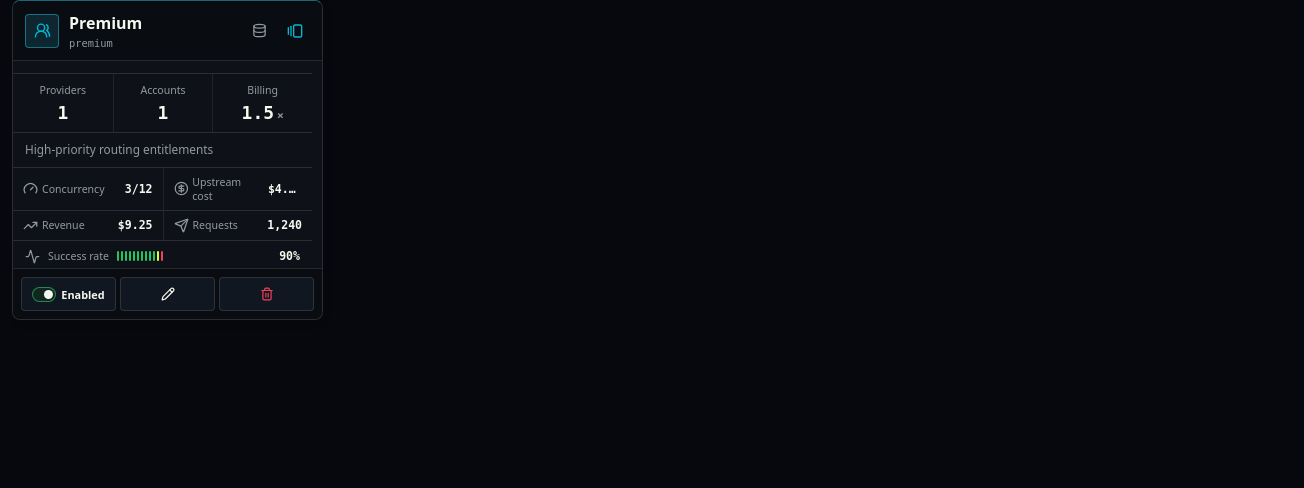
Test: CredentialGroupsWorkspace › renders entitlement cards and expands the selected group's account cards
This screenshot has width=1304, height=488.
Check: the element named "Premium entitlement group card" is shown, box [12,0,323,320]
Check: the text "Account One" is not shown
Click the button "Premium premium".
click(152, 30)  # box [69,12,234,49]
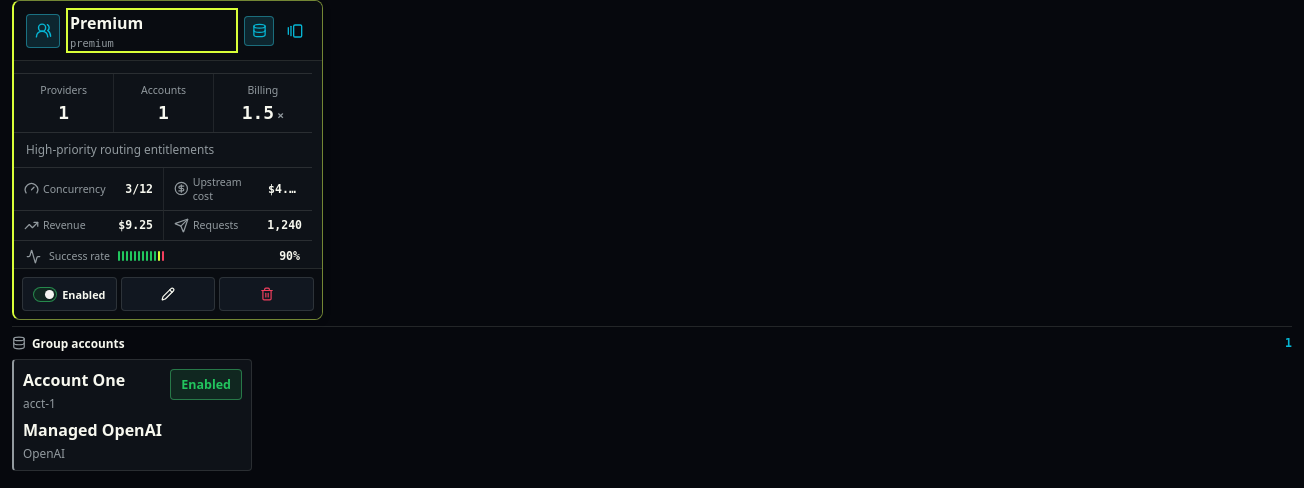
Check: the button "Premium premium" is expanded, box [70,12,234,49]
Check: the text "Account One" is shown, box [23,369,125,391]
